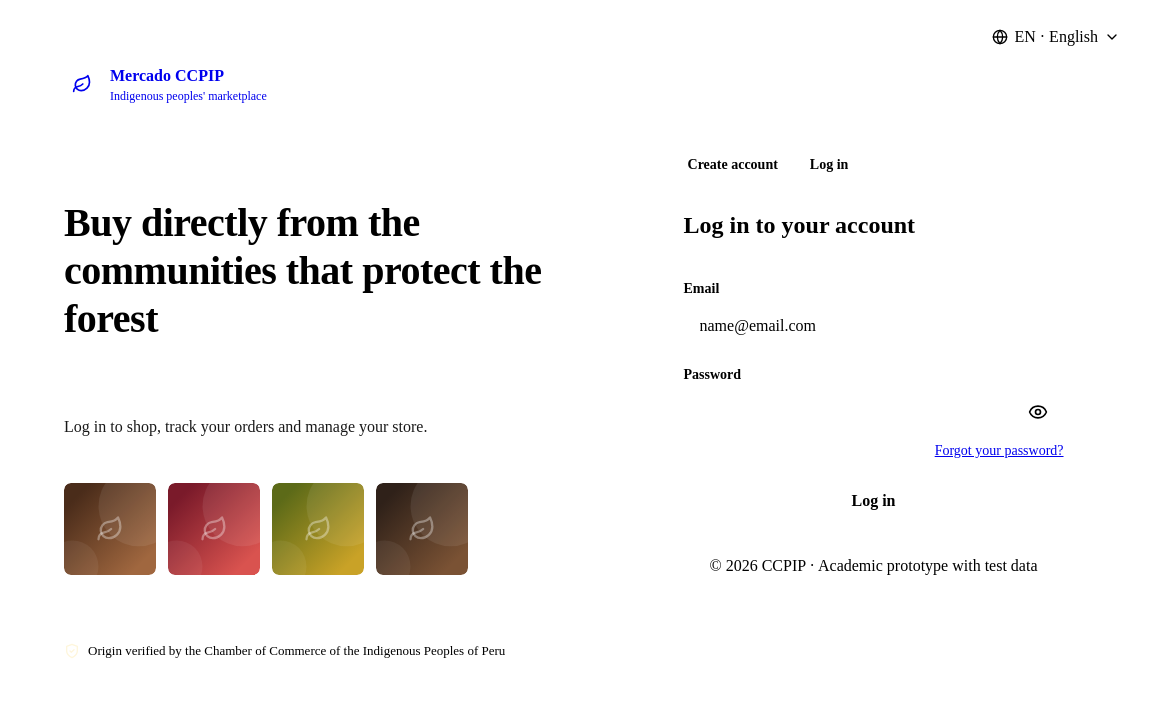
Scenario: Tienda en inglés (CCPIP-98) › el inicio de sesión valida y explica los errores en inglés
Step 1. Click the button "Log in" → {"x": 874, "y": 501}, box [684, 477, 1064, 525]
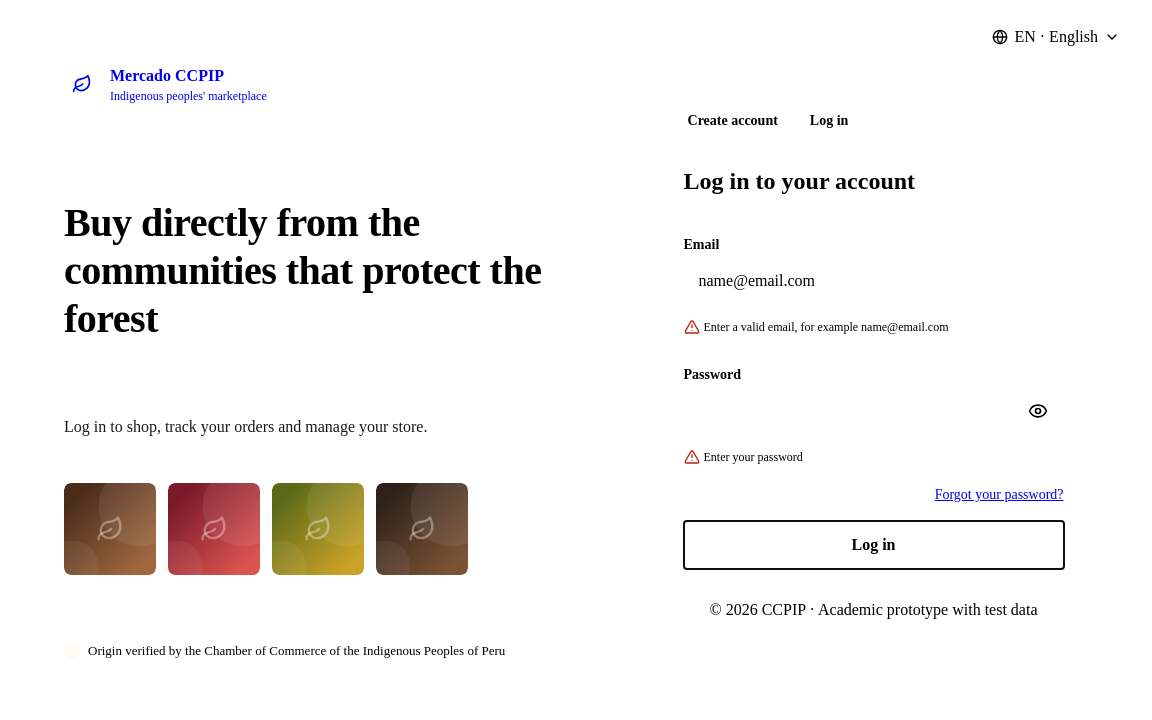
Expected: the text "Enter a valid email, for example name@email.com" is shown, [684, 319, 948, 335]
Step 2. Type "consumidor@ccpip.test" into the field labelled "Email" → {"x": 888, "y": 281}, box [684, 261, 1094, 301]
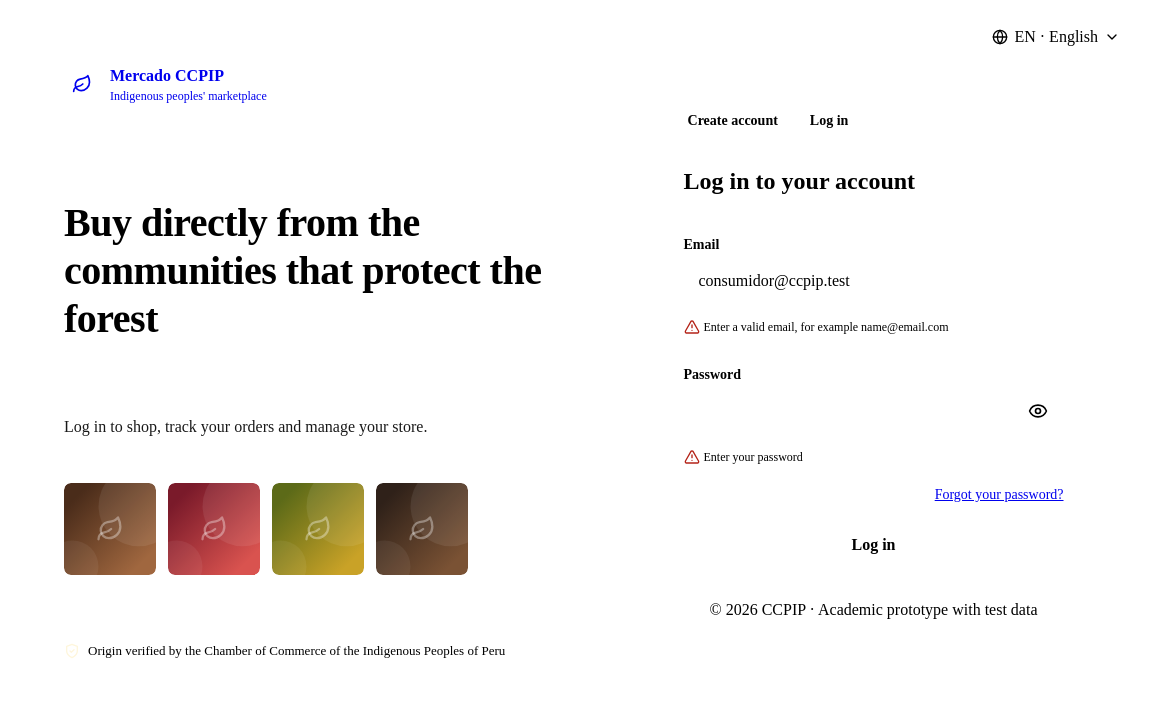
Step 3. Type "incorrecta" into the password field labelled "Password" → {"x": 906, "y": 411}, box [684, 391, 1130, 431]
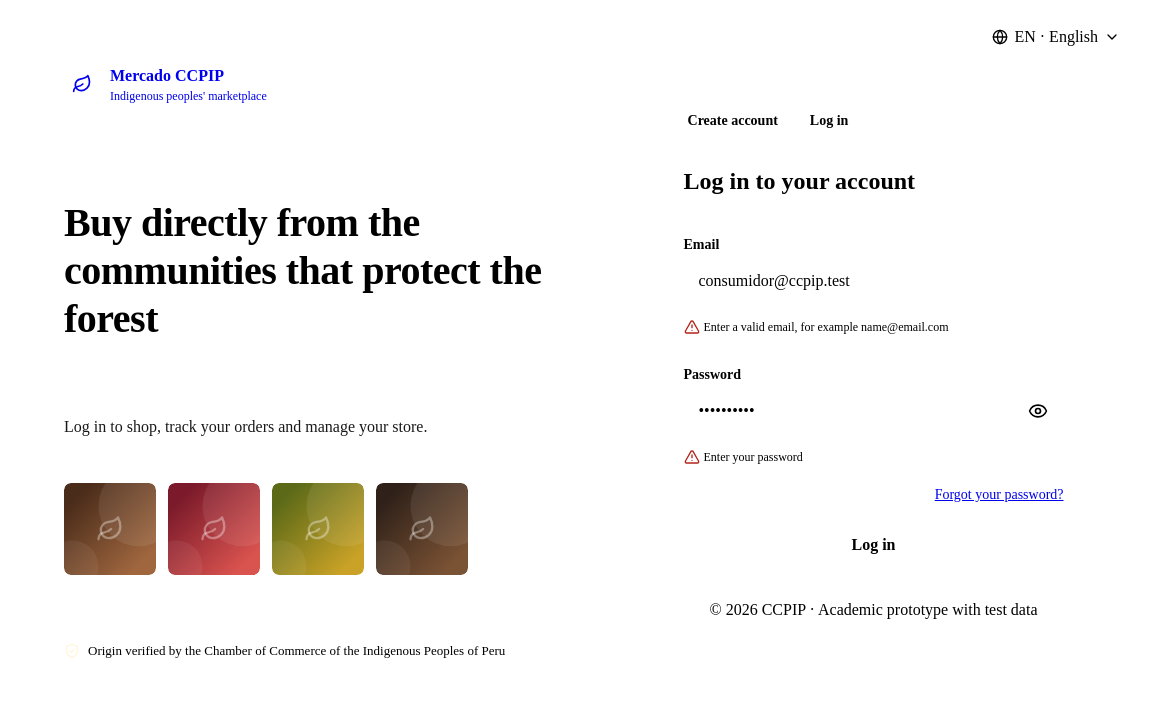
Step 4. Click the button "Log in" → {"x": 874, "y": 545}, box [684, 521, 1064, 569]
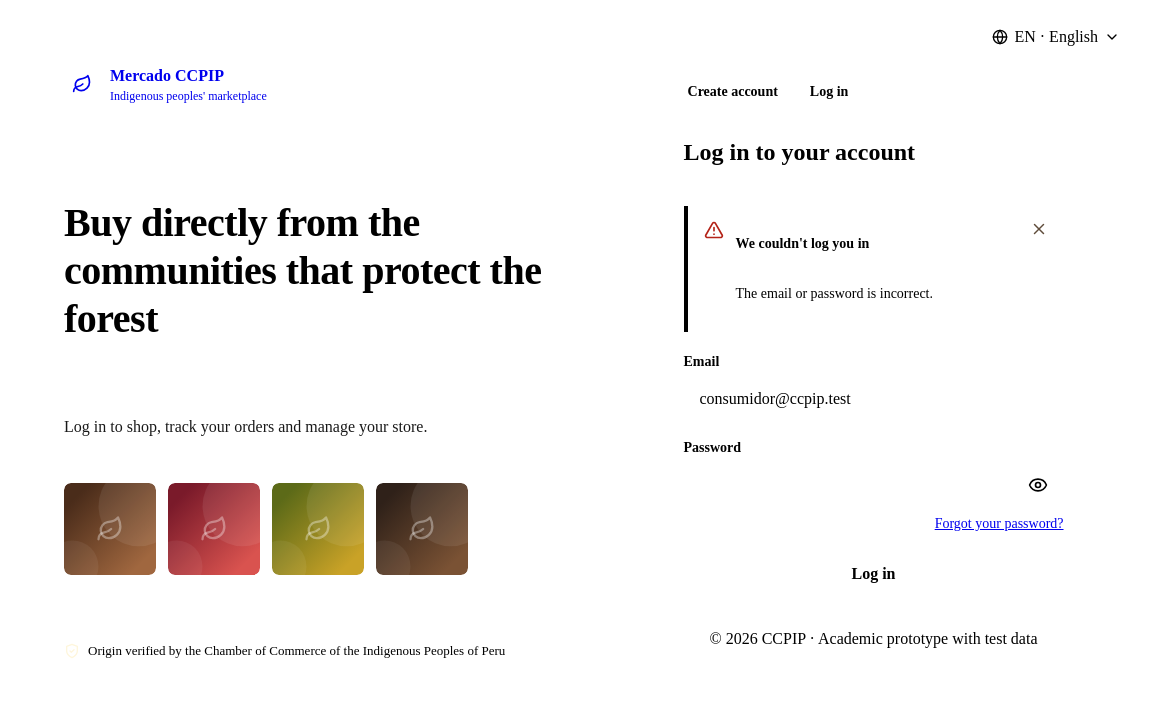
Expected: the text "The email or password is incorrect." is shown, [736, 286, 933, 301]
